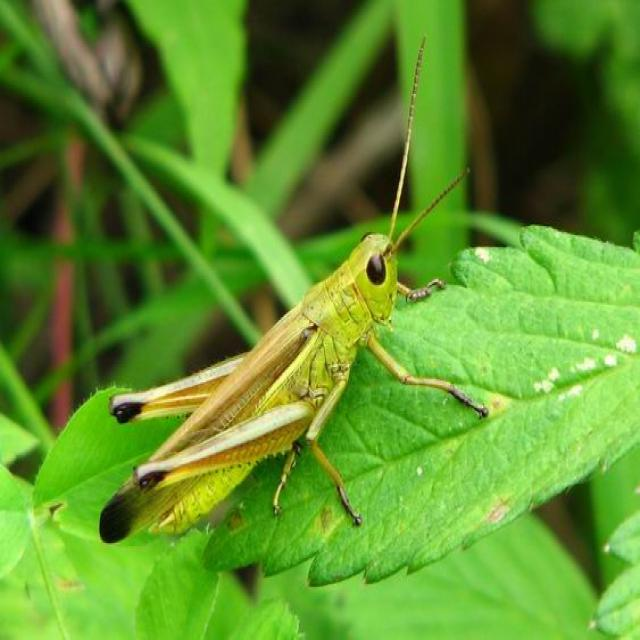ZhaMeng: (88, 202, 459, 572)
